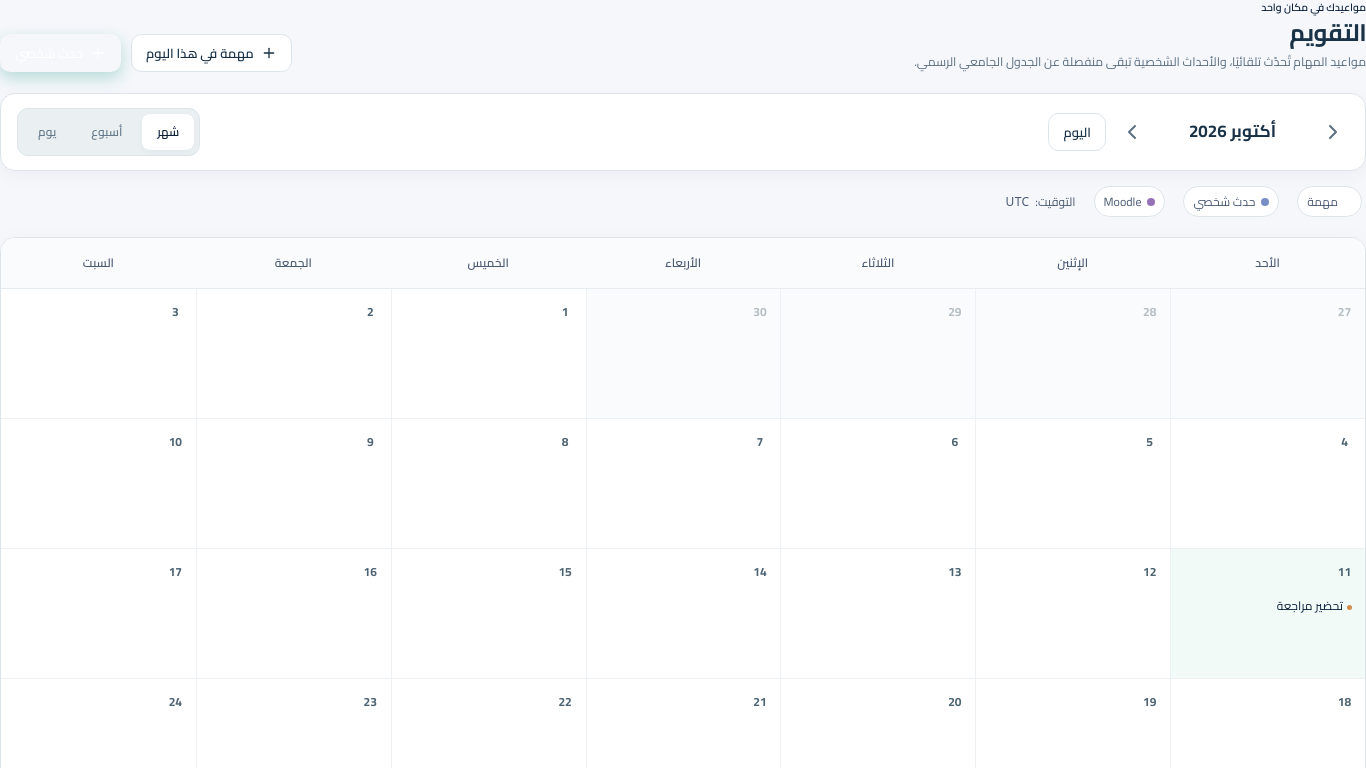
calendar displays task source records and switches month/week/day without copying tasks
The image size is (1366, 768).
Expected: the link "تحضير مراجعة" is shown, x1=1277 y1=594 x2=1352 y2=617
Click the button "أسبوع" at (107, 132), box x1=76 y1=114 x2=137 y2=150
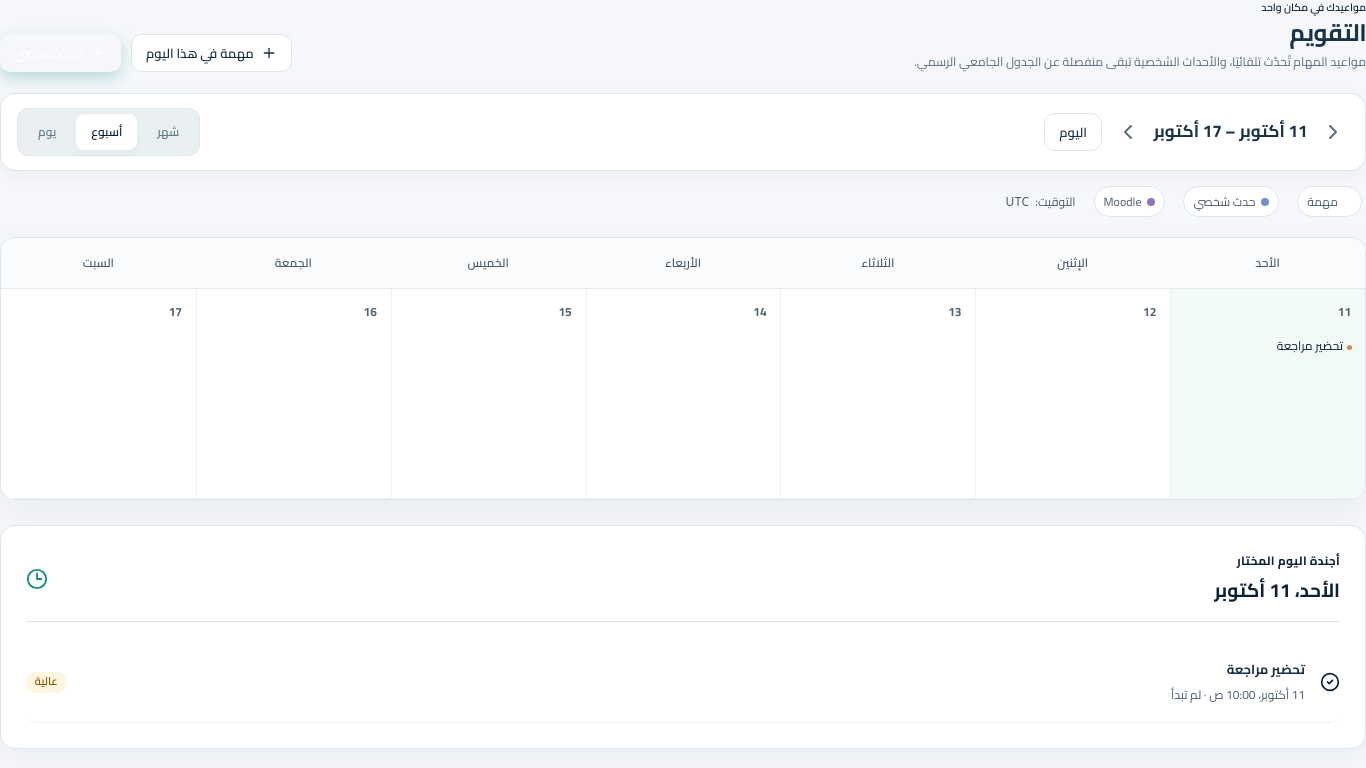
Expected: the number of elements with class "calendar-day" is 7
Click the button "يوم" at (47, 132), box x1=23 y1=114 x2=71 y2=150
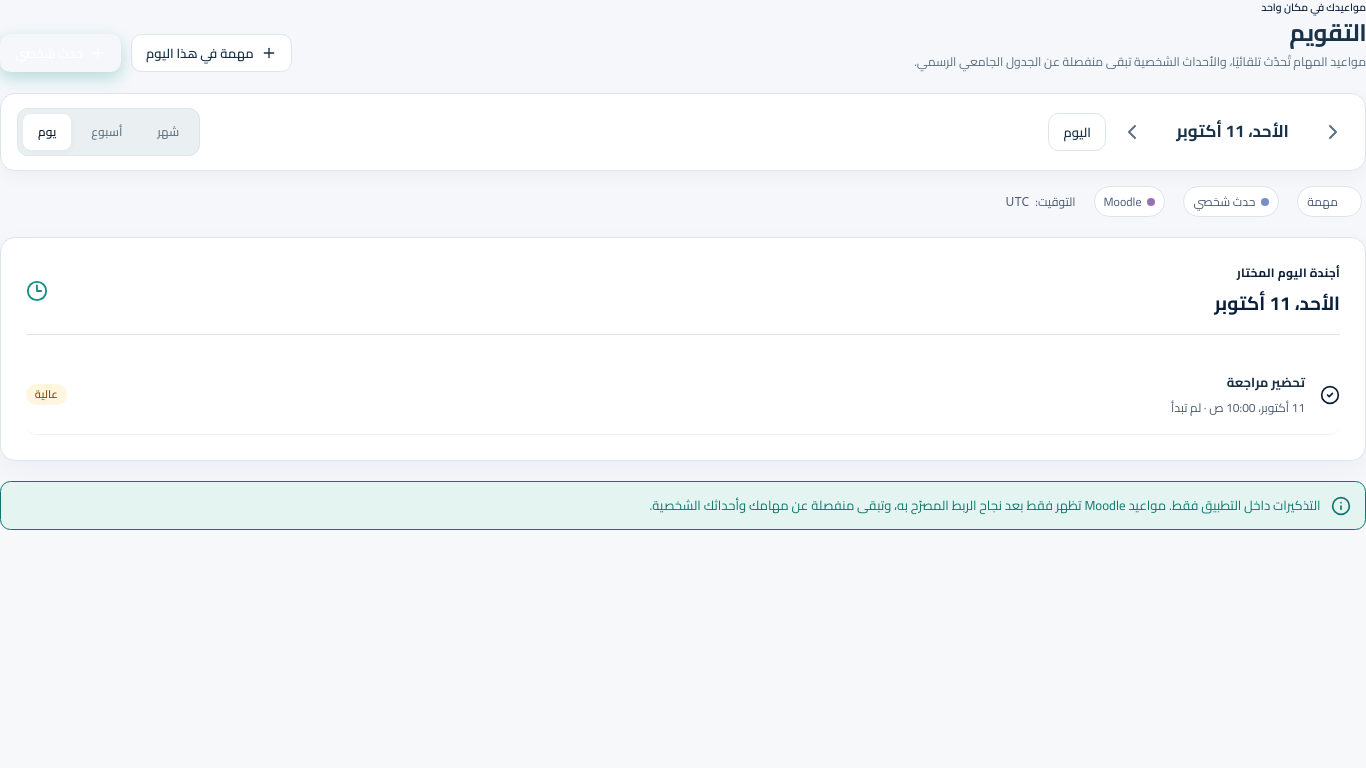
Expected: the element with class "calendar-grid" is gone
